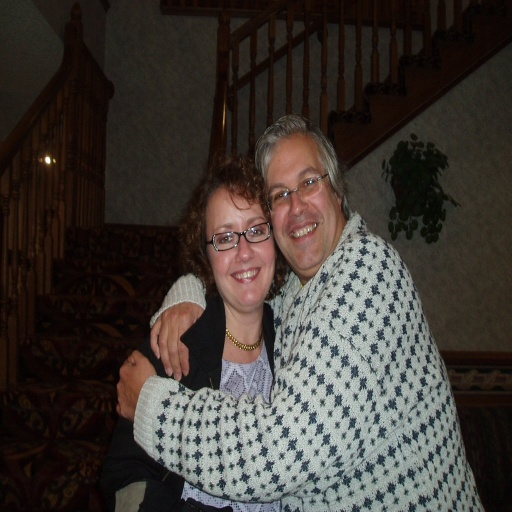hand: (149, 304, 196, 386), (115, 346, 159, 424)
